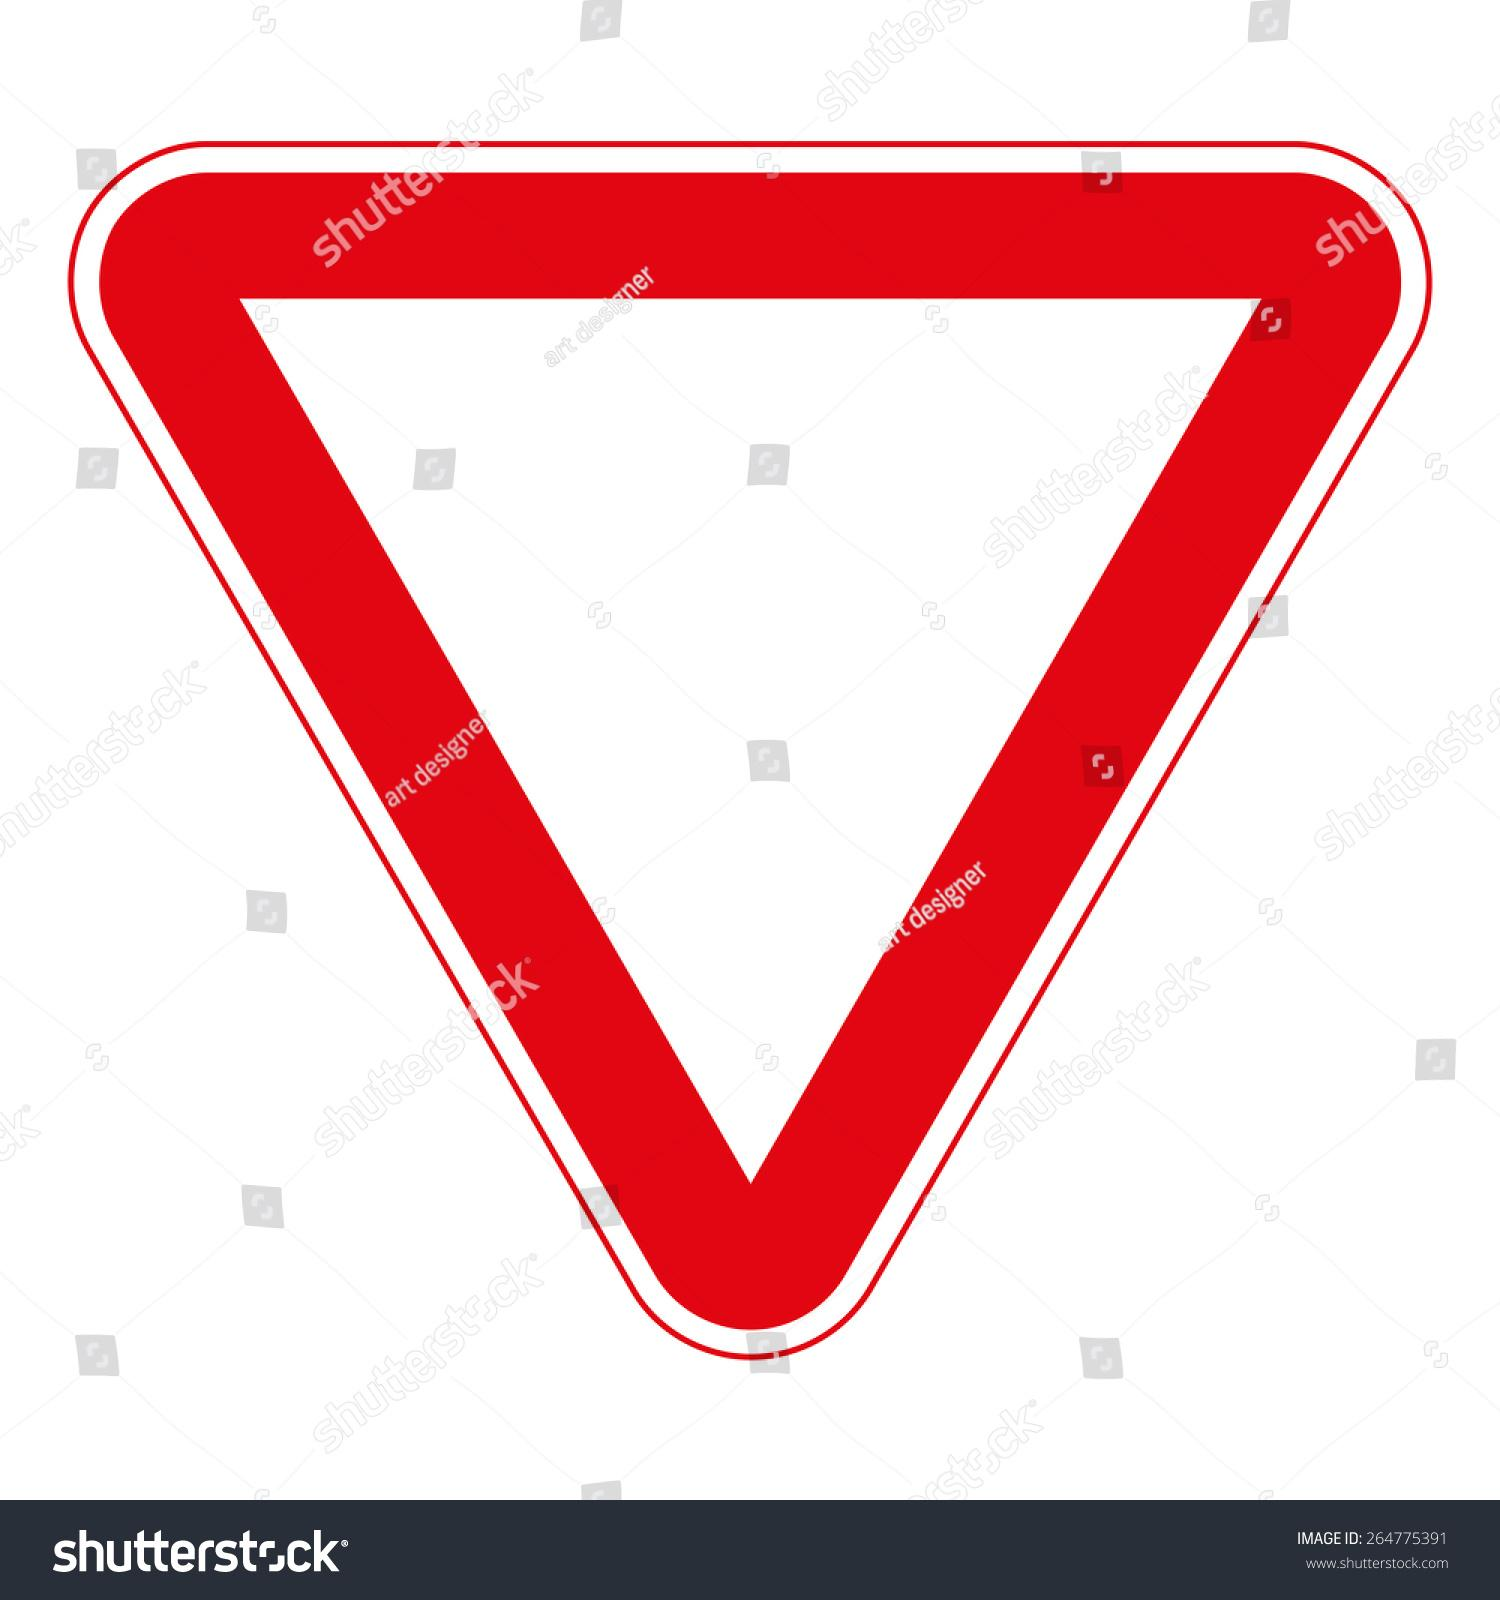Give Way: (54, 87, 1451, 1356)
